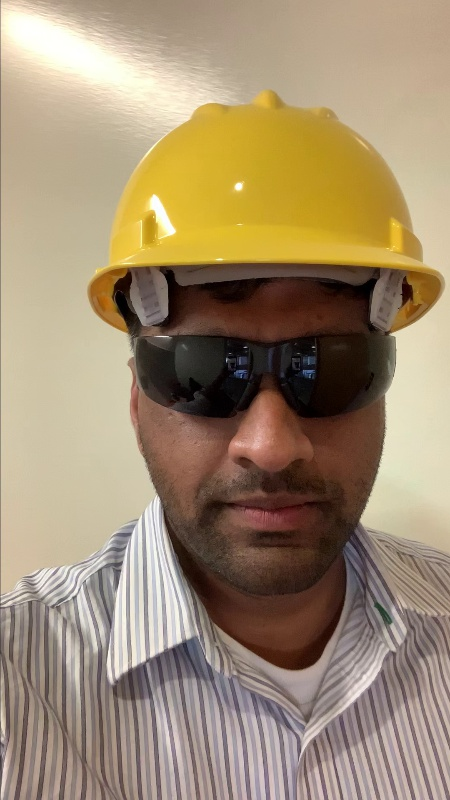glasses: (126, 326, 397, 416)
helmet: (108, 91, 430, 263)
